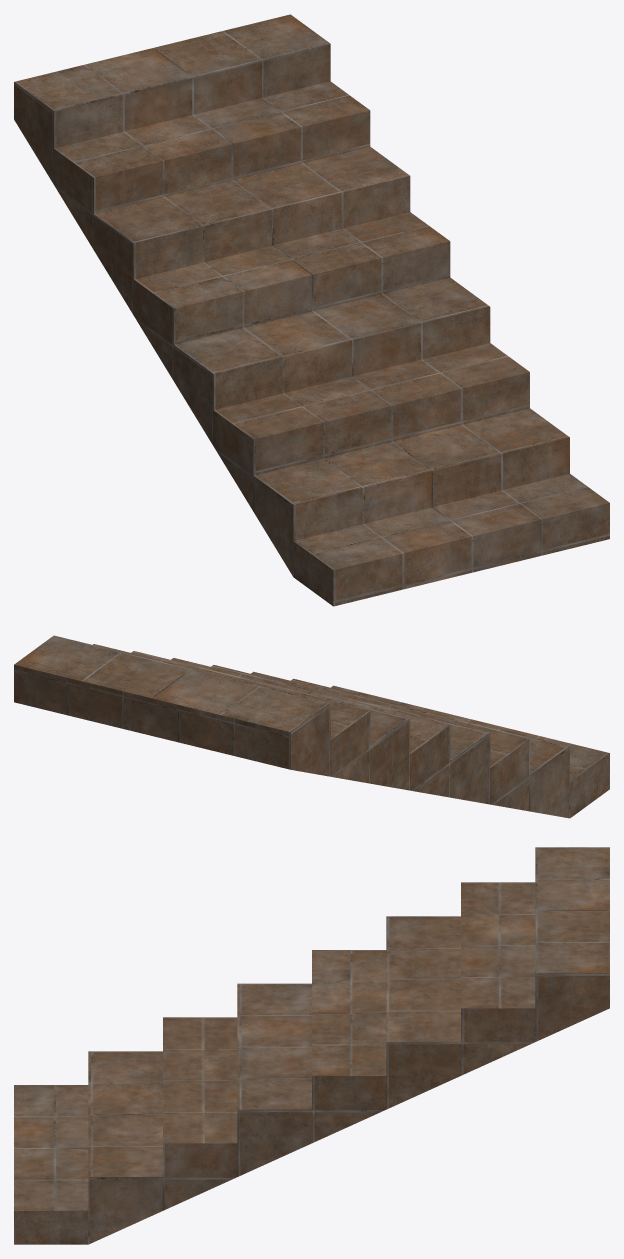
The model's file is EscaleraDoble.fbx.
The picture shows the model from 3 angles, top to bottom: view 1: azimuth 30°, elevation 25°; view 2: azimuth 150°, elevation 25°; view 3: azimuth 270°, elevation 25°; orthographic projection. The views are drawn at different scales.
Parts seen in each view (by area): view 1: EscaleraDoble; view 2: EscaleraDoble; view 3: EscaleraDoble.
Part boxes in pixels (box(x1,y1,x2,y2)): EscaleraDoble: box(14, 14, 609, 606); EscaleraDoble: box(14, 635, 609, 818); EscaleraDoble: box(14, 847, 609, 1244).
Bounding box in the file's own units: 200 × 201 × 400.
